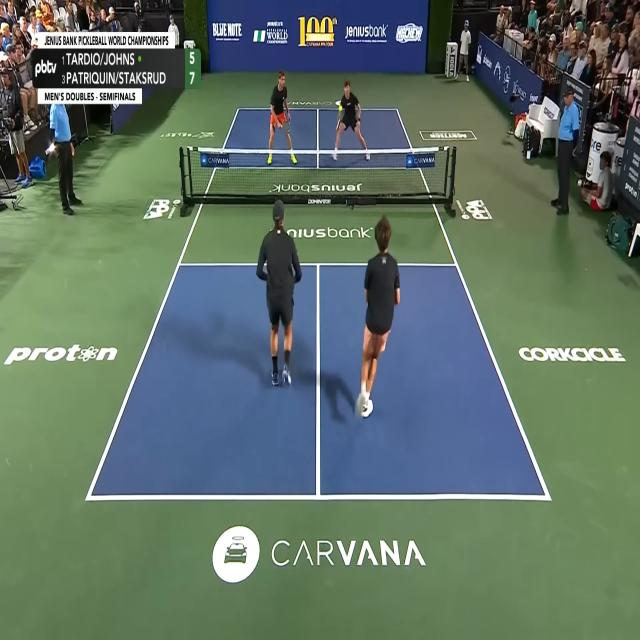ball: (338, 104, 343, 112)
